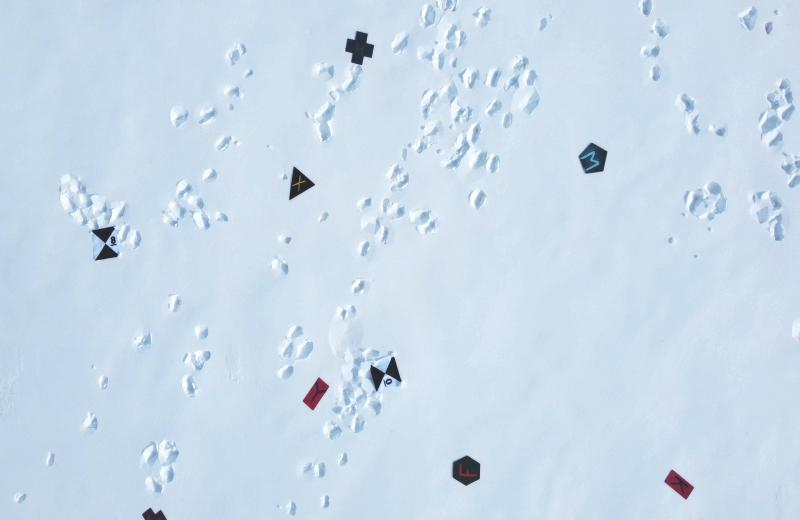Cross: (344, 29, 375, 68), (140, 504, 168, 520)
Hexagon: (449, 454, 483, 489)
Pentagon: (574, 139, 608, 176)
Rectangle: (662, 467, 696, 502), (301, 377, 331, 413)
Triangle: (286, 162, 316, 206)
